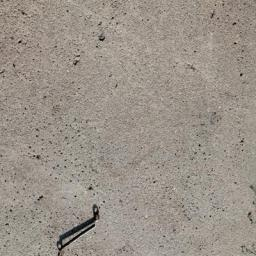FOD: (52, 205, 111, 256)
